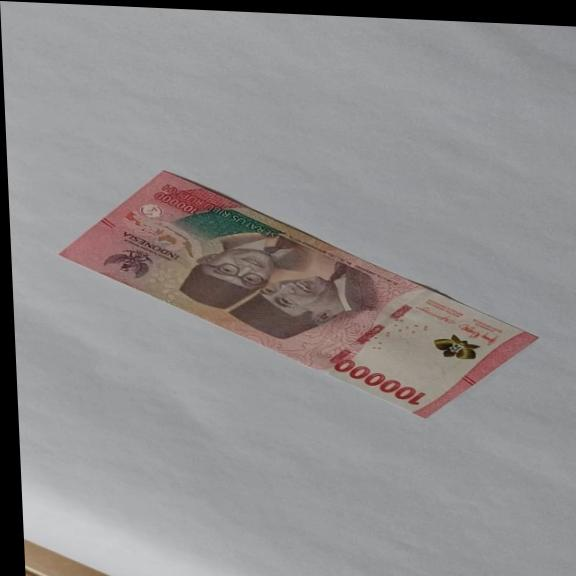Kertas: (52, 164, 542, 424), (332, 358, 428, 406)
